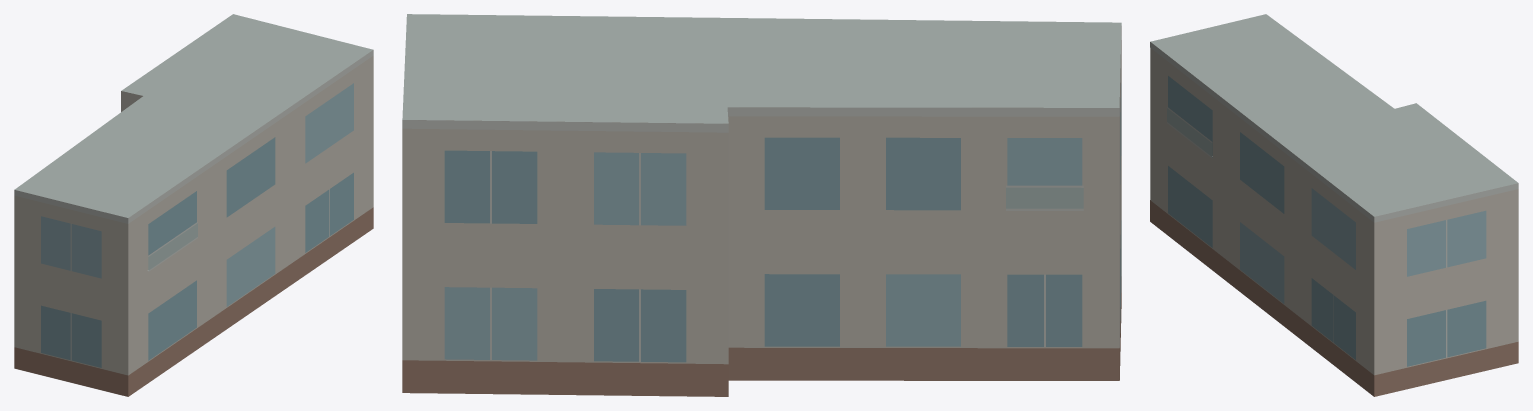
The model's file is survey-upis-32881528.glb.
3 views of the same model, side by side, from view 1: azimuth 30°, elevation 25°; view 2: azimuth 150°, elevation 25°; view 3: azimuth 270°, elevation 25° (orthographic). The views are drawn at different scales.
Parts seen in each view (by area): view 1: survey-upis-32881528.tmp; view 2: survey-upis-32881528.tmp; view 3: survey-upis-32881528.tmp.
Part boxes in pixels (box(x1,y1,x2,y2)): survey-upis-32881528.tmp: box(14, 14, 373, 396); survey-upis-32881528.tmp: box(402, 14, 1121, 396); survey-upis-32881528.tmp: box(1150, 14, 1518, 396).
Size of the model in its own units: 18.13 by 7.5 by 13.92.
